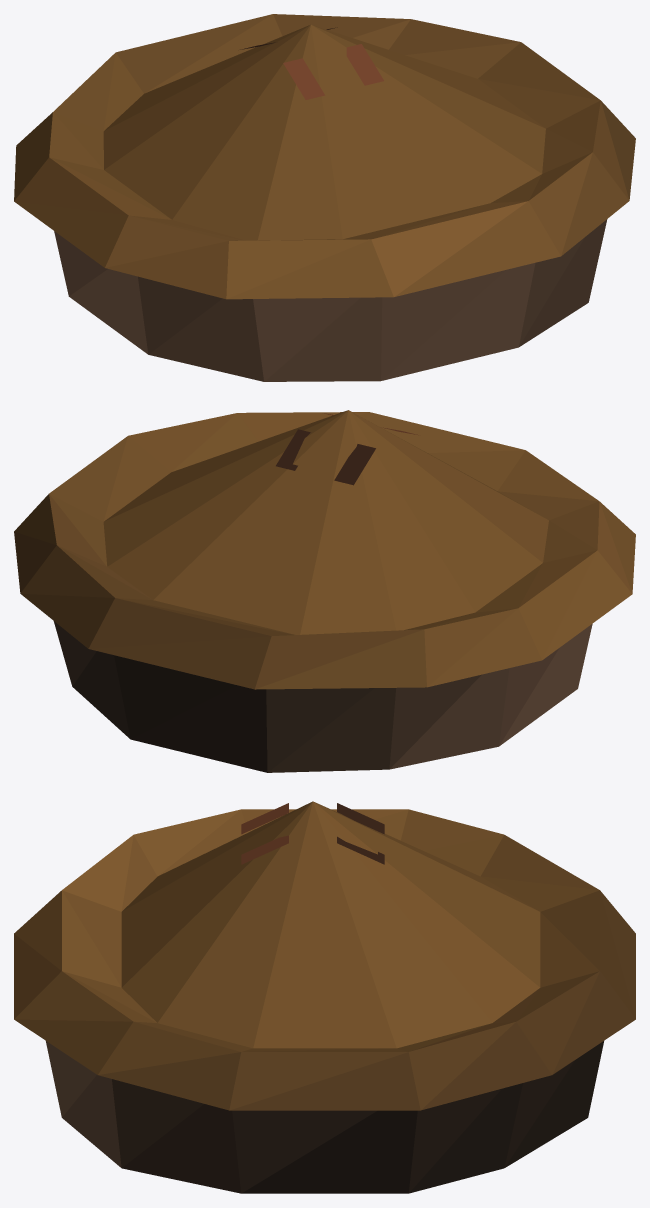
File: pie.obj
3 renders of one model, top to bottom at view 1: azimuth 30°, elevation 25°; view 2: azimuth 150°, elevation 25°; view 3: azimuth 270°, elevation 25°, orthographic. The views are drawn at different scales.
Visible parts, largest first — view 1: Item Meat pie 2026-09-13_16-41-58; view 2: Item Meat pie 2026-09-13_16-41-58; view 3: Item Meat pie 2026-09-13_16-41-58.
Boxes of the visible parts, x1,y1,x2,y2 form: Item Meat pie 2026-09-13_16-41-58: (14,14,635,381); Item Meat pie 2026-09-13_16-41-58: (14,410,635,772); Item Meat pie 2026-09-13_16-41-58: (14,801,635,1193).
Size of the model in its own units: 54 by 25 by 52.
